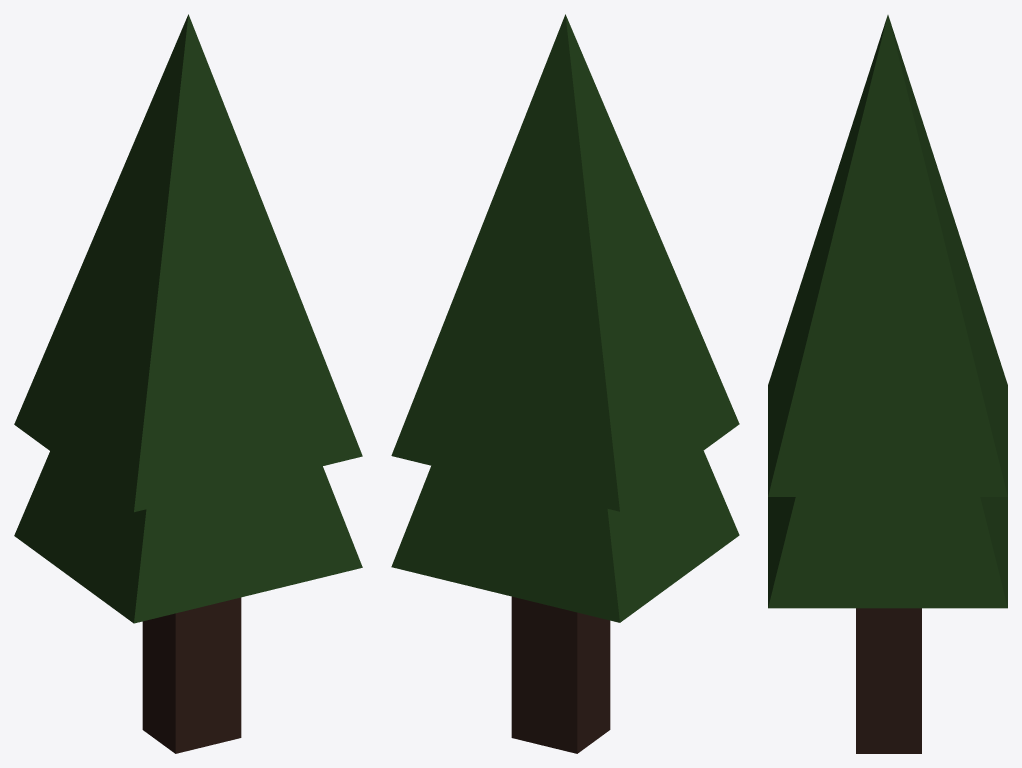
The model's file is Tree2UVW.fbx.
3 renders of one model, left to right at view 1: azimuth 30°, elevation 25°; view 2: azimuth 150°, elevation 25°; view 3: azimuth 270°, elevation 25°, orthographic.
Parts seen in each view (by area): view 1: Pyramid023; view 2: Pyramid023; view 3: Pyramid023.
Part boxes in pixels (box(x1,y1,x2,y2)): Pyramid023: box(14, 14, 362, 753); Pyramid023: box(391, 14, 739, 753); Pyramid023: box(768, 15, 1007, 753).
Bounding box in the file's own units: 10.06 × 30.29 × 9.12.
